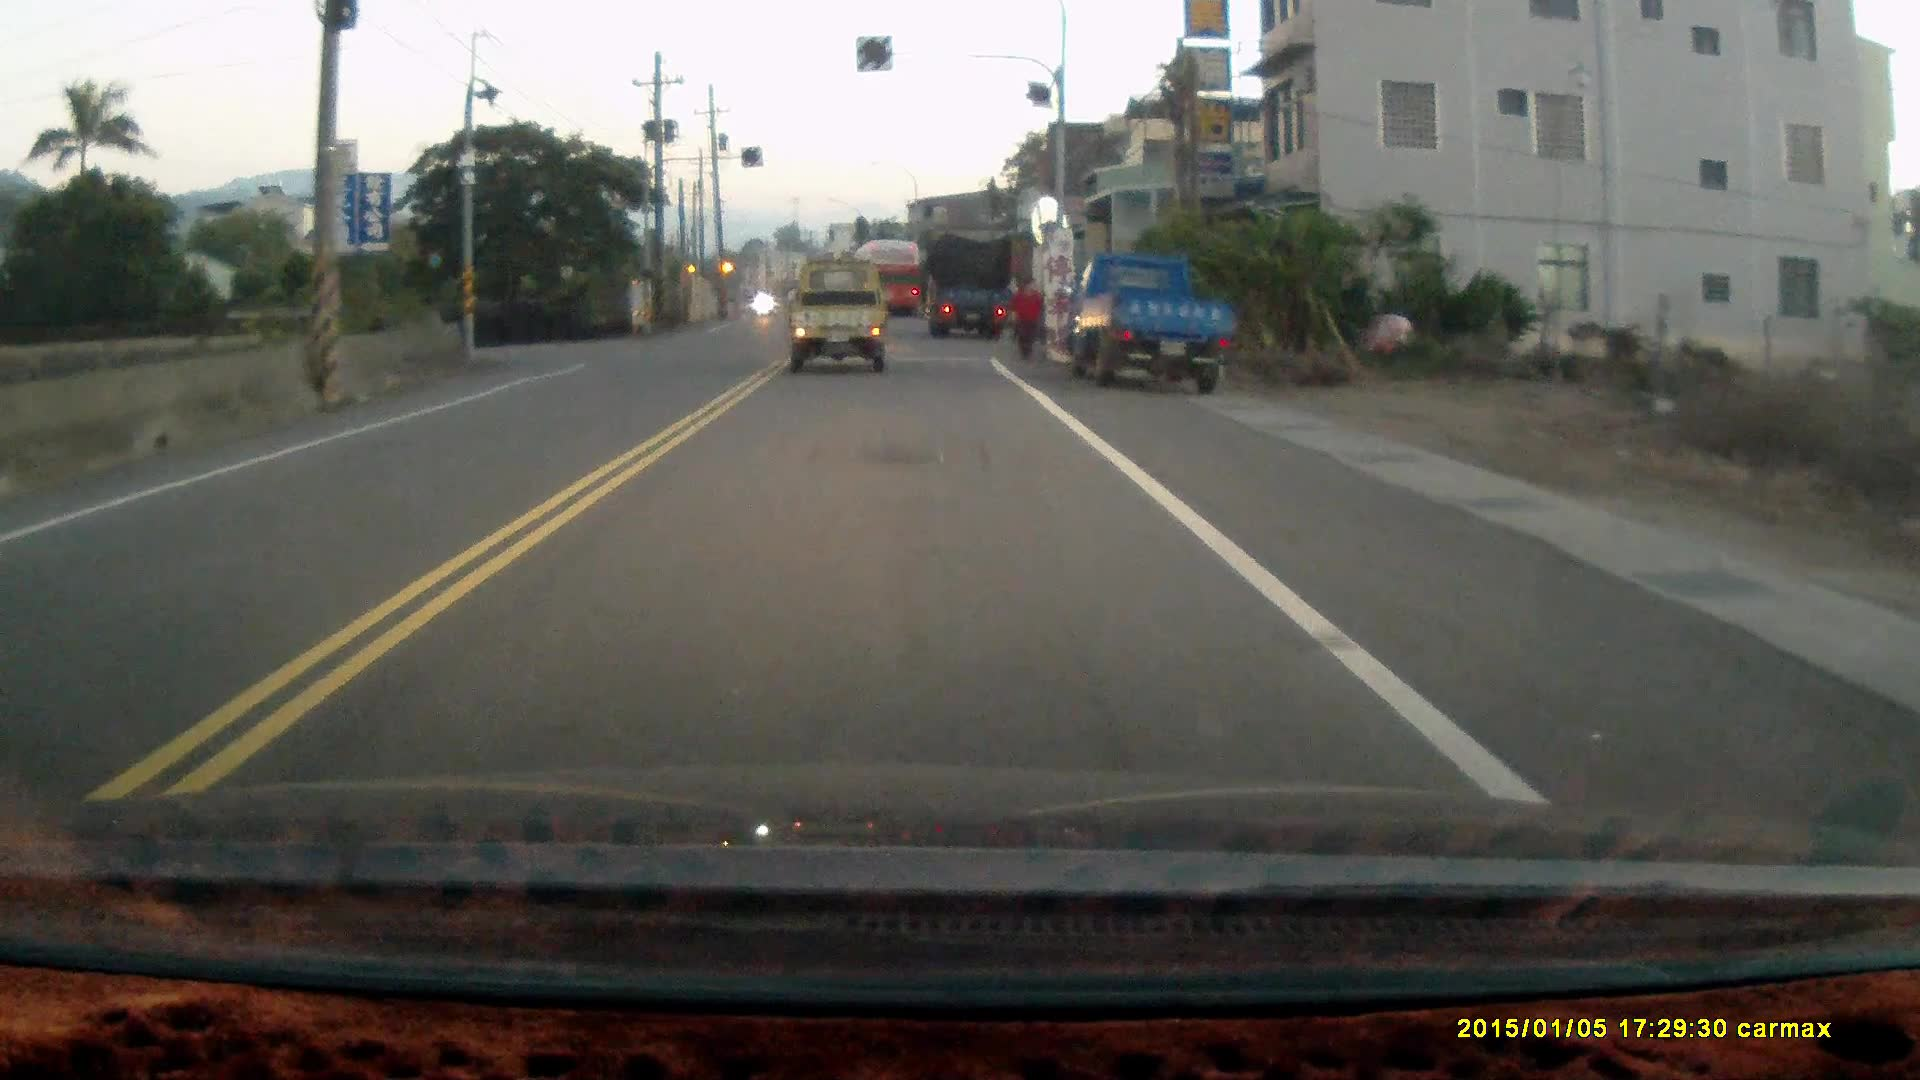pedestrian: (1007, 274, 1046, 366)
vehicle: (1058, 249, 1239, 394), (789, 260, 891, 371), (927, 238, 1016, 336)
